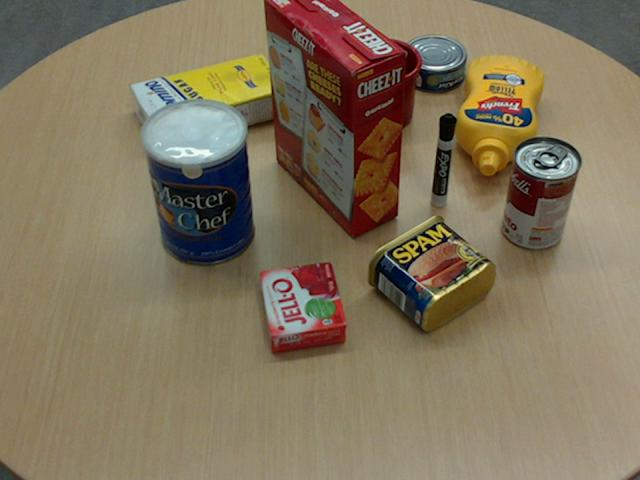cracker_box: (264, 0, 404, 236)
gelatin_box: (260, 261, 346, 351)
large_marker: (431, 113, 456, 206)
master_chef_can: (141, 98, 254, 265)
mug: (345, 37, 422, 131)
mustard_bottle: (454, 55, 542, 175)
potted_meat_can: (366, 213, 494, 329)
sugar_box: (129, 52, 290, 148)
tomato_soup_can: (502, 136, 580, 249)
tuna_fish_can: (400, 34, 466, 91)
